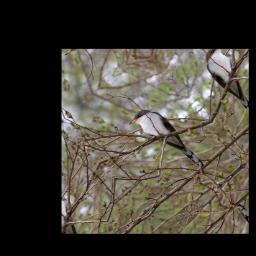Cuckoo: (126, 100, 207, 183)
